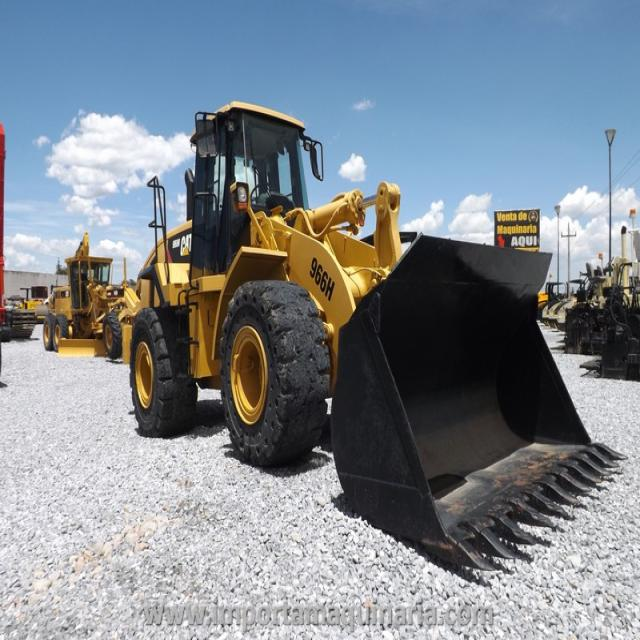buldozerpayloadergrader: (127, 94, 629, 592)
